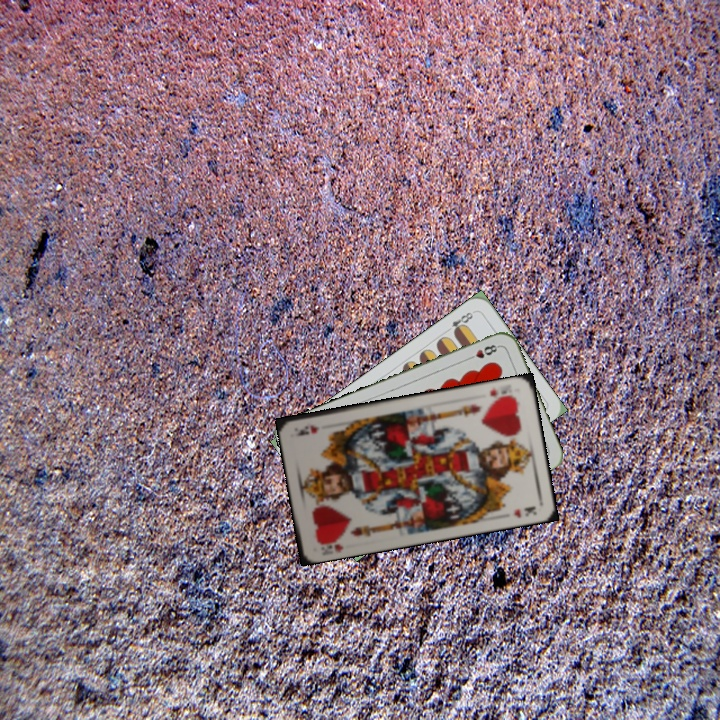E8: (442, 307, 477, 337)
H8: (463, 340, 502, 363)
HK: (313, 534, 346, 554), (486, 385, 518, 404)
